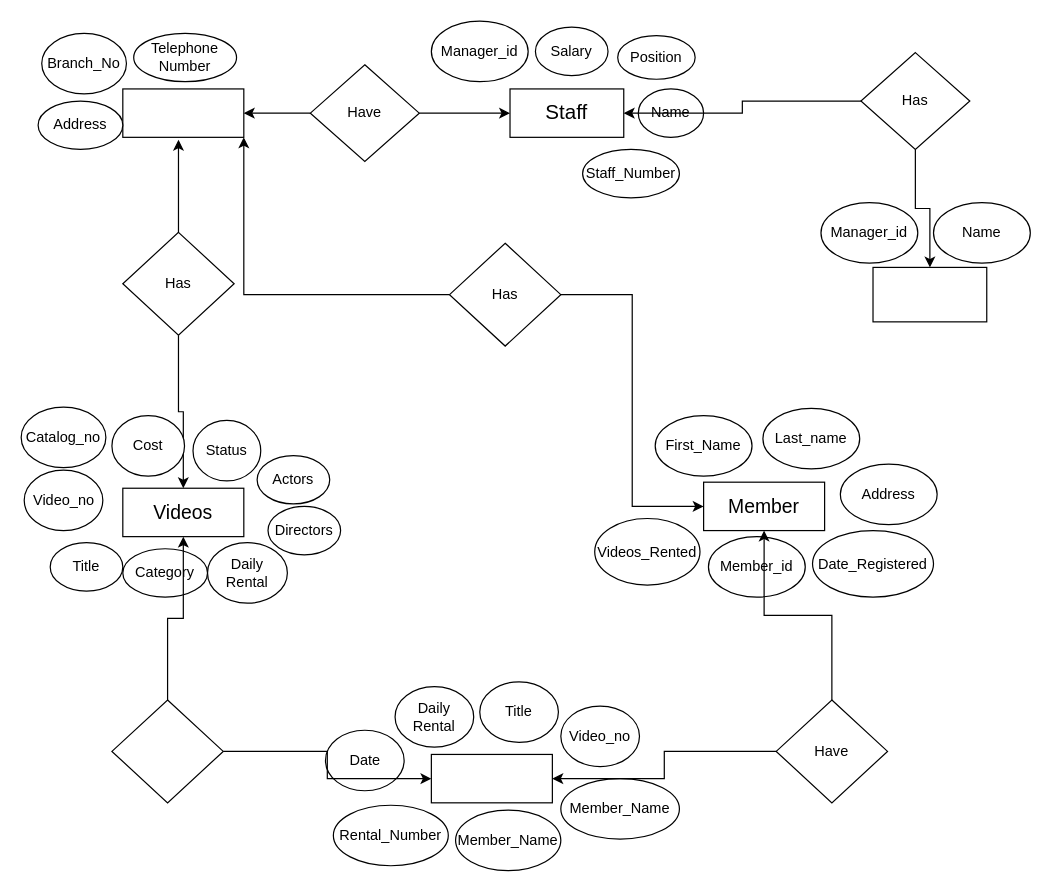
The diagram is 1051 pixels wide and 892 high, and some of its shapes have lost their labels. The shapes that lost their labels are listed below. From the top down, each one's box as (x1, y1, x2, y2) in pixels, then its label:
(122, 88, 244, 137): Branch
(872, 266, 987, 322): Manager
(111, 699, 223, 803): Are
(430, 753, 552, 803): Videos Rented
